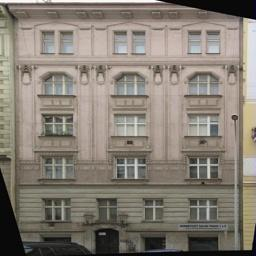building: (10, 0, 239, 256)
